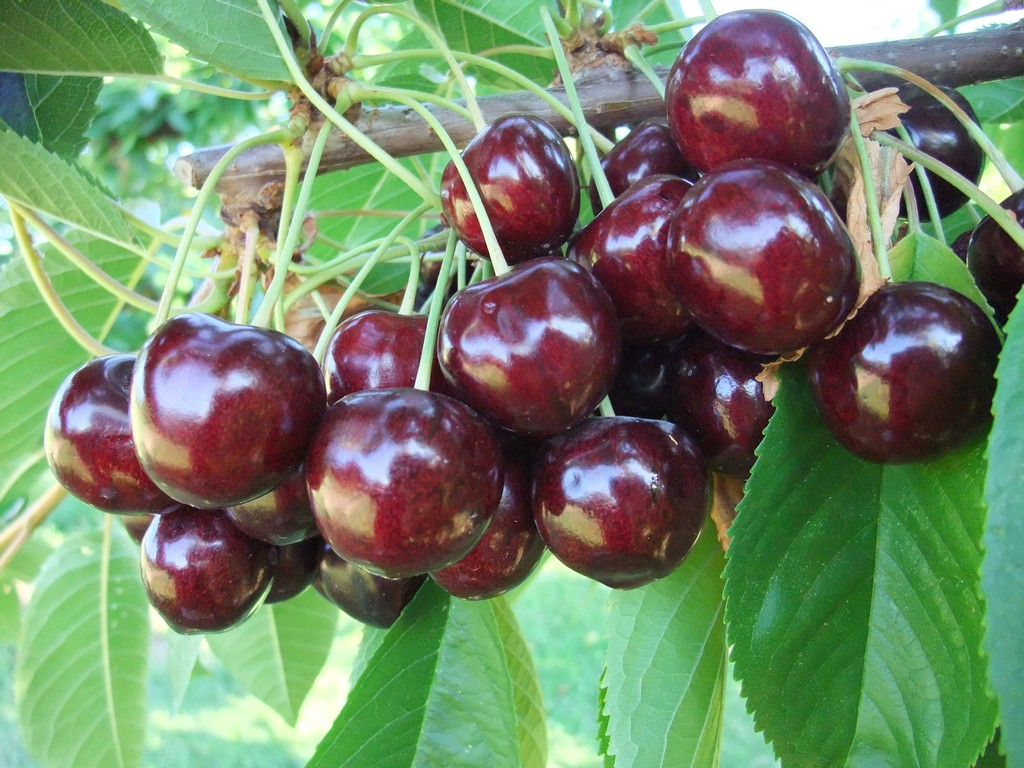Cherry: (127, 310, 330, 515), (657, 167, 869, 357), (304, 385, 506, 572), (806, 274, 1004, 457), (661, 8, 860, 185), (432, 255, 612, 447), (532, 418, 725, 597), (562, 170, 711, 353), (44, 345, 183, 527), (429, 108, 590, 257), (437, 440, 559, 613), (132, 505, 277, 640), (871, 77, 995, 217), (656, 338, 781, 474), (299, 537, 443, 635), (319, 300, 447, 409), (576, 112, 715, 209), (954, 168, 1024, 331), (227, 477, 327, 551), (249, 542, 331, 607)
